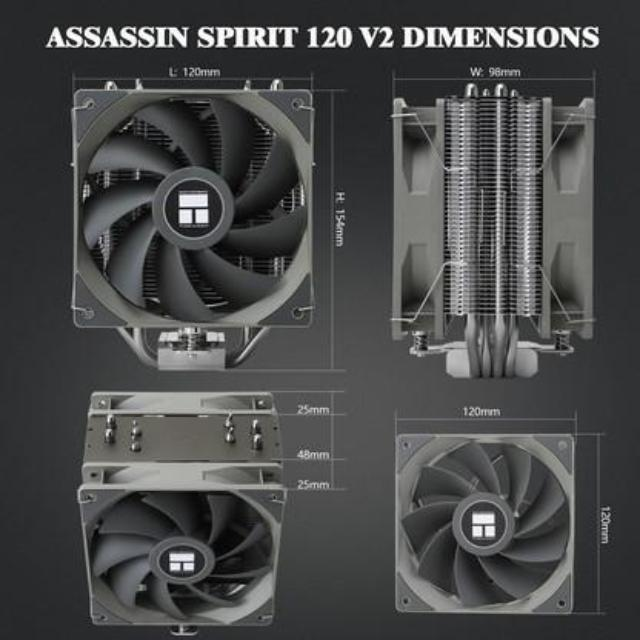CPU_Fan: (69, 85, 320, 377), (392, 80, 598, 397), (69, 391, 291, 638)
